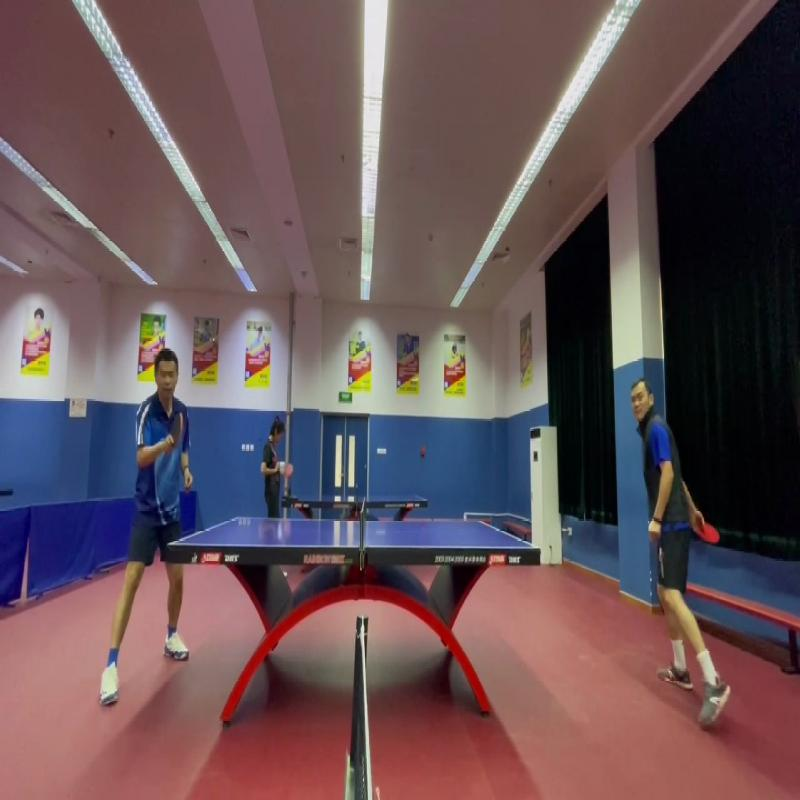bats: (164, 404, 194, 460)
